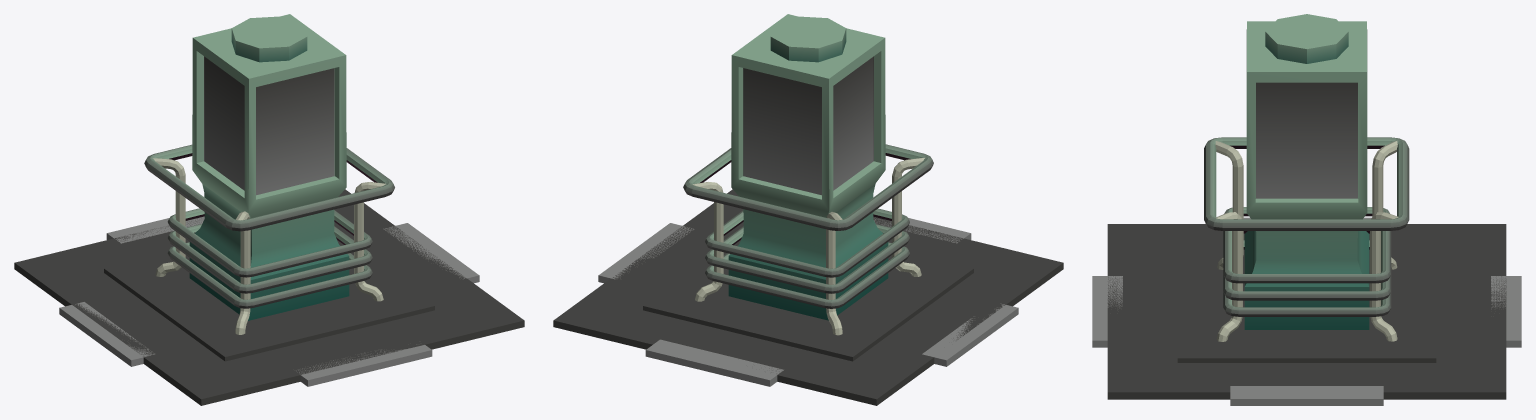
The picture shows the model from 3 angles, left to right: view 1: azimuth 30°, elevation 25°; view 2: azimuth 150°, elevation 25°; view 3: azimuth 270°, elevation 25°; orthographic projection. The views are drawn at different scales.
Visible parts, largest first — view 1: polySurface8; view 2: polySurface8; view 3: polySurface8.
Boxes of the visible parts, x1=… form: polySurface8: x1=14, y1=14, x2=524, y2=405; polySurface8: x1=553, y1=14, x2=1063, y2=405; polySurface8: x1=1092, y1=14, x2=1521, y2=405.
Size of the model in its own units: 10.3 by 7.52 by 10.3.
1 material, 1 textured.
